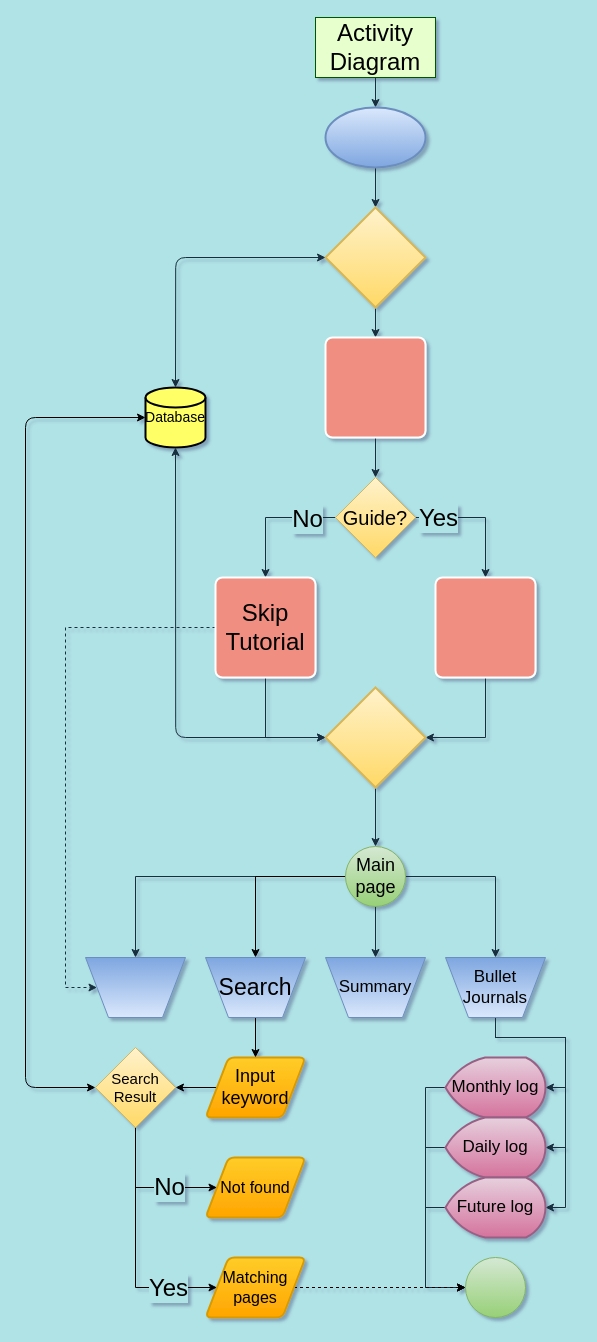
The diagram is 597 pixels wide and 1342 high, and some of its shapes have lost their labels. Each missing label, with the box of its shape:
Current page: (464, 1256, 526, 1318)
Introduce basic functionality: (434, 576, 536, 678)
Load previous journal entry/ Blank journal: (324, 686, 426, 788)
Mobile Web: (324, 206, 426, 308)
Open App: (324, 106, 426, 168)
Open Corresponding UI: (324, 336, 426, 438)
Settings: (84, 956, 186, 1018)
